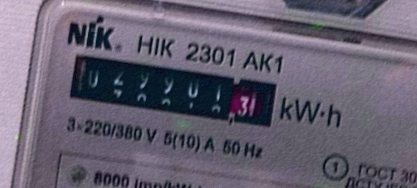0: (184, 75, 203, 102), (84, 66, 102, 90)
1: (211, 79, 227, 104)
2: (110, 65, 129, 89)
3: (234, 94, 253, 119)
9: (161, 73, 176, 98), (136, 68, 151, 91)
screen: (60, 46, 288, 140)
